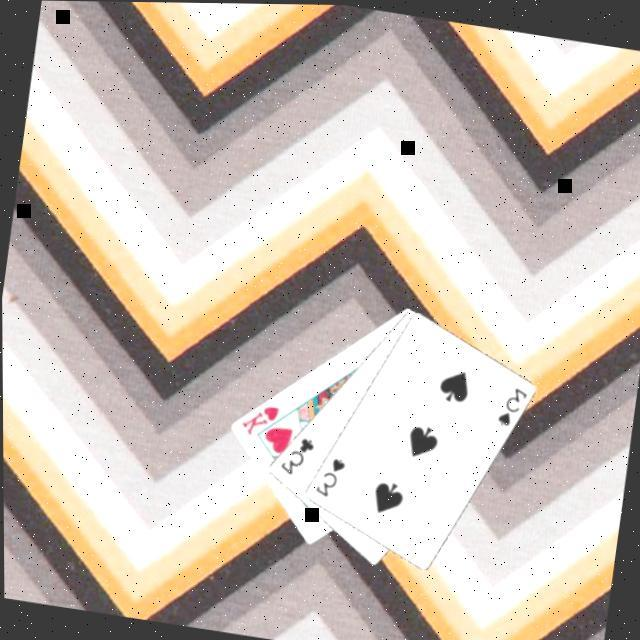3C: (272, 431, 316, 483)
3S: (308, 453, 347, 503), (491, 382, 528, 432)
KH: (233, 399, 280, 444)
